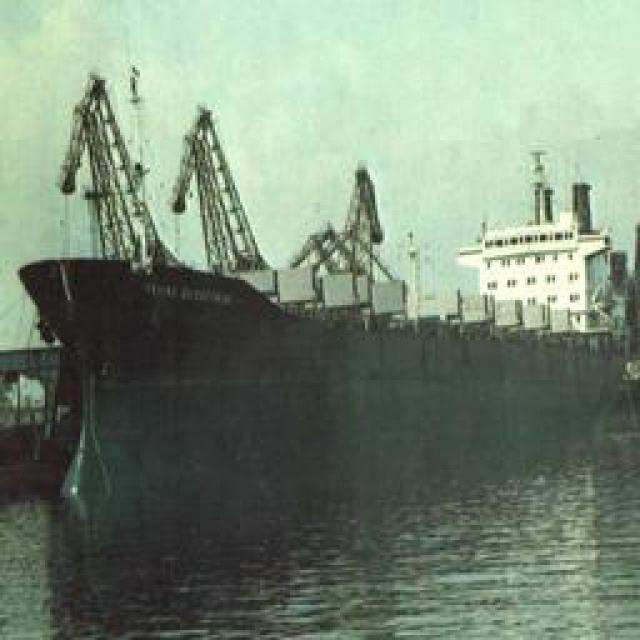Ship: (16, 32, 640, 525)
